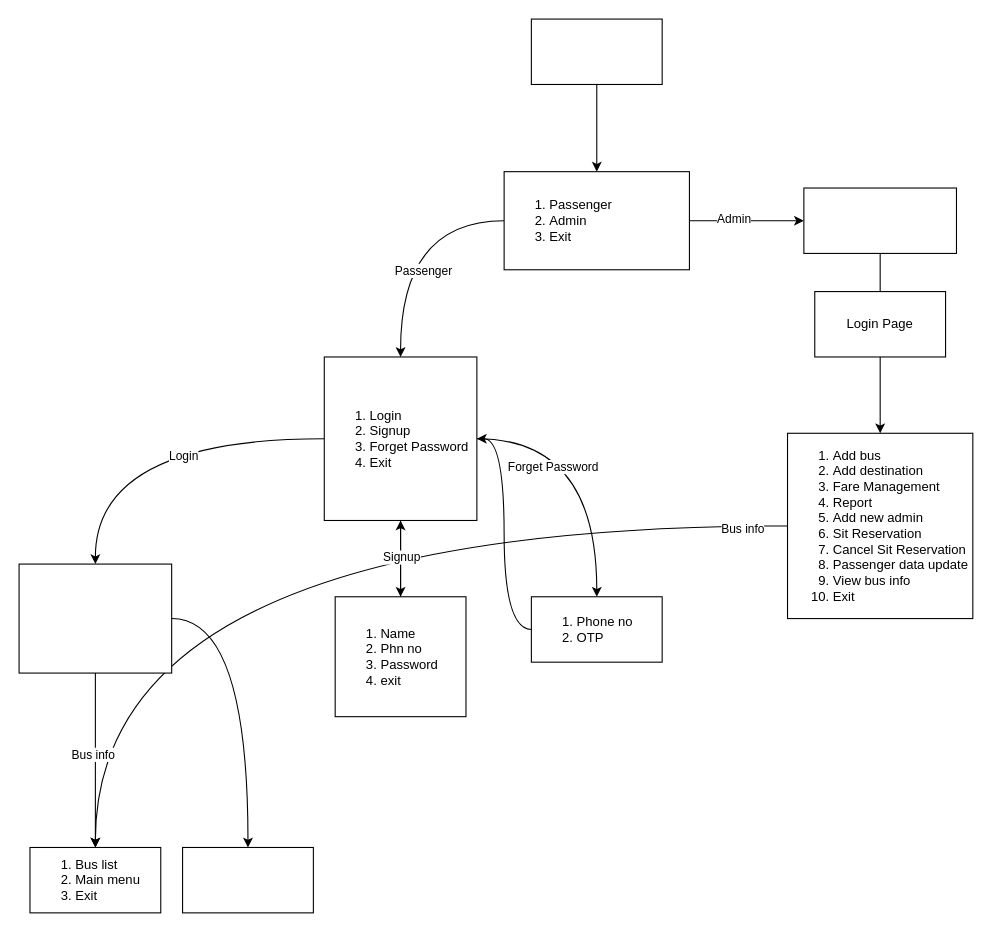
Image size: 992x935. Some labels were removed from this diagram. The shapes that lost their labels are listed below. From the top down, each one's centre as x and y in pixels, then its label:
At point (596, 51): "Bus Tricket Reservation System".
At point (879, 220): "Login page Forget Password Exit".
At point (95, 618): "Bus Info Book Seat Cancel Booking History Exit".
